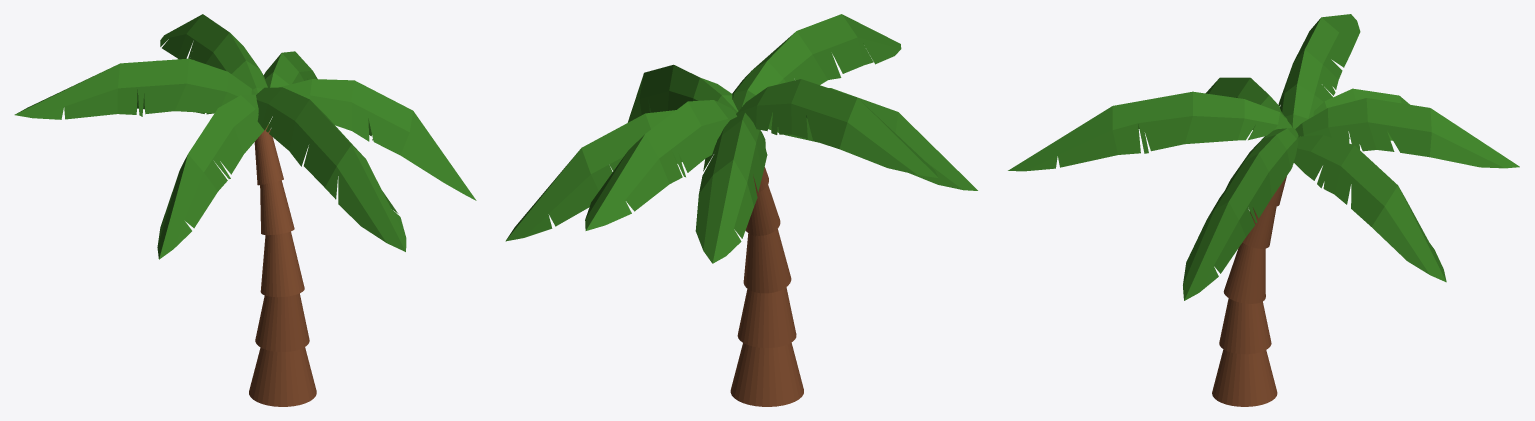
File: PalmTree.glb
The picture shows the model from 3 angles, left to right: view 1: azimuth 30°, elevation 25°; view 2: azimuth 150°, elevation 25°; view 3: azimuth 270°, elevation 25°; orthographic projection. The views are drawn at different scales.
Parts seen in each view (by area): view 1: Leaf 1, Leaf 5, Leaf 4, Leaf 2, Leaf 3, Base, Part 1, Part 2, Part 3, Leaf 6, Part 4; view 2: Leaf 5, Leaf 3, Leaf 7, Leaf 1, Leaf 6, Base, Leaf 2, Part 1, Leaf 4, Part 2, Part 3; view 3: Leaf 1, Leaf 3, Leaf 6, Leaf 2, Leaf 5, Base, Part 1, Part 2, Leaf 4, Part 3, Leaf 7.
Boxes of the visible parts, box(x1,y1,x2,y2) form: Leaf 1: box(256, 87, 406, 251); Leaf 5: box(14, 58, 256, 119); Leaf 4: box(157, 94, 269, 259); Leaf 2: box(280, 79, 476, 200); Leaf 3: box(160, 14, 267, 93); Base: box(249, 347, 316, 406); Part 1: box(255, 293, 309, 351); Part 2: box(260, 231, 304, 297); Part 3: box(260, 180, 294, 235); Leaf 6: box(263, 51, 317, 87); Part 4: box(254, 124, 283, 185); Leaf 5: box(736, 79, 938, 177); Leaf 3: box(585, 100, 736, 230); Leaf 7: box(695, 113, 767, 263); Leaf 1: box(732, 14, 901, 112); Leaf 6: box(505, 110, 682, 241); Base: box(730, 342, 803, 406); Leaf 2: box(627, 64, 738, 122); Part 1: box(737, 287, 796, 347); Leaf 4: box(768, 88, 977, 190); Part 2: box(743, 229, 791, 293); Part 3: box(745, 185, 780, 235); Leaf 1: box(1008, 91, 1291, 171); Leaf 3: box(1295, 98, 1519, 168); Leaf 6: box(1293, 135, 1446, 282); Leaf 2: box(1183, 128, 1298, 300); Leaf 5: box(1278, 14, 1360, 128); Base: box(1212, 349, 1277, 406); Part 1: box(1219, 298, 1271, 354); Part 2: box(1223, 243, 1265, 303); Leaf 4: box(1205, 77, 1287, 129); Part 3: box(1242, 204, 1276, 248); Leaf 7: box(1313, 88, 1409, 140).
Bounding box in the file's own units: 12.78 × 10.71 × 15.66.
